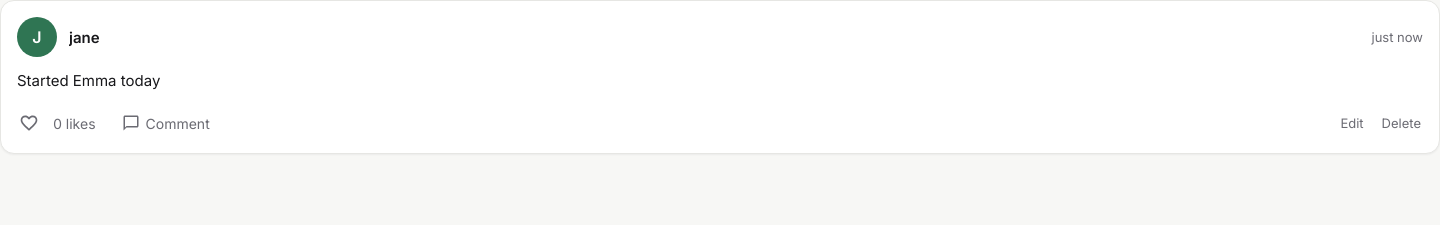
your own post › not confirming keeps it; a failed delete shows why
Click the button with aria-label "Delete post" at (1401, 123), box [1374, 111, 1429, 135]
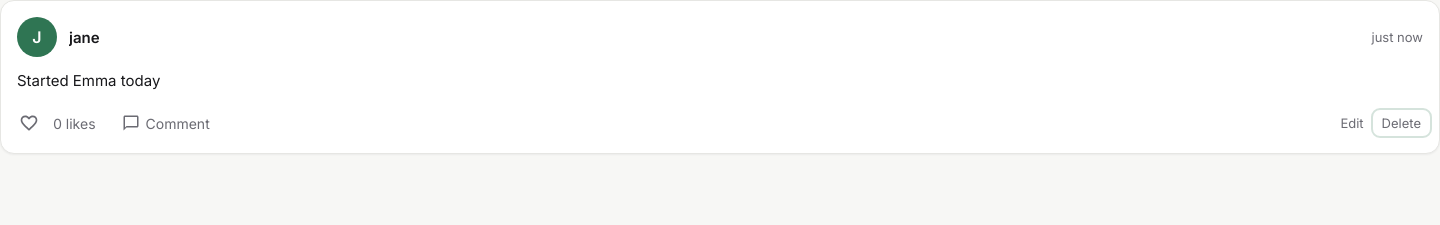
Click the button with aria-label "Delete post" at (1401, 123), box [1374, 111, 1429, 135]
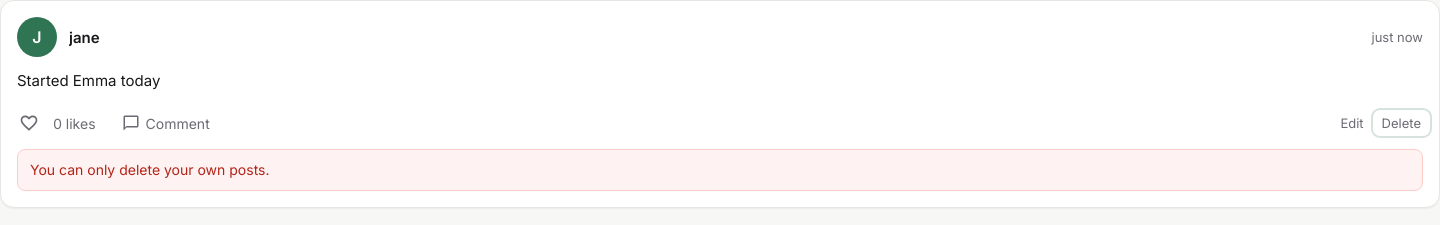
Result: the message shows "only delete your own" at [30, 161, 270, 178]
